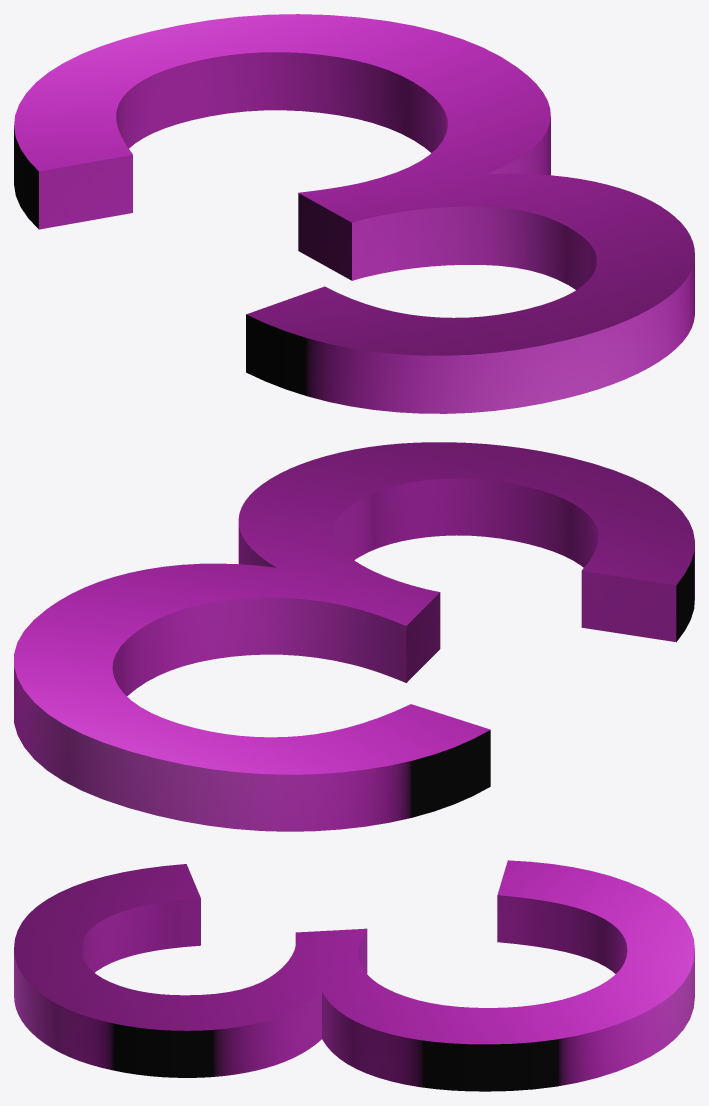
Rendered from three.obj.
3 views of the same model, one above another, from view 1: azimuth 30°, elevation 25°; view 2: azimuth 150°, elevation 25°; view 3: azimuth 270°, elevation 25° (orthographic). The views are drawn at different scales.
Parts seen in each view (by area): view 1: one; view 2: one; view 3: one.
Boxes of the visible parts, box(x1,y1,x2,y2) form: one: box(14, 14, 694, 413); one: box(14, 442, 694, 831); one: box(14, 860, 694, 1091).
Size of the model in its own units: 41.9 by 5 by 65.5.
1 material, 1 textured.
